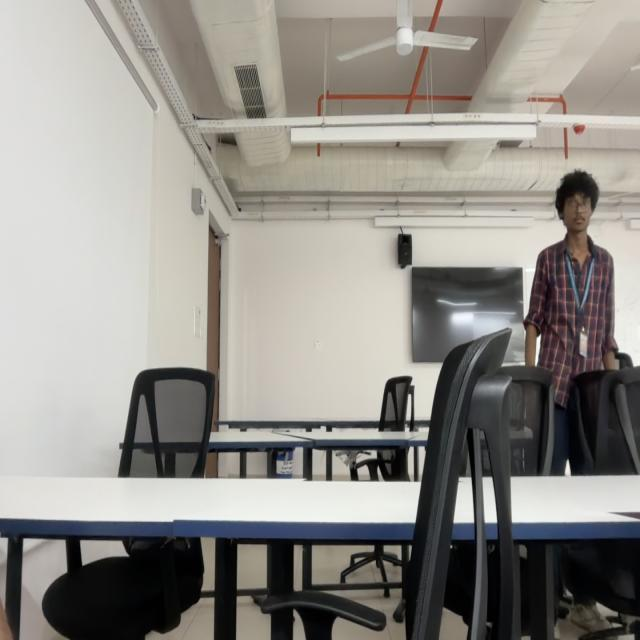darshan: (554, 168, 600, 233)
